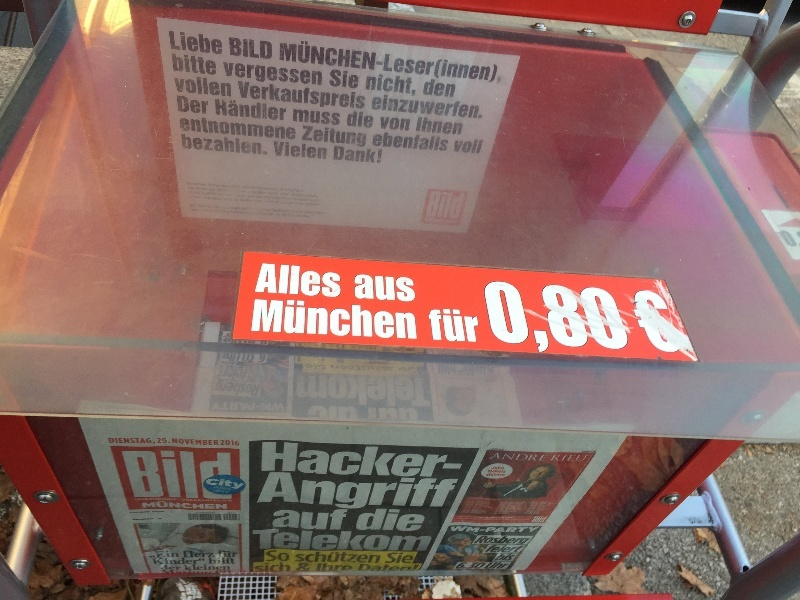text: (497, 282, 512, 354), (513, 282, 528, 354), (529, 282, 544, 354), (545, 282, 560, 354), (561, 282, 576, 354), (577, 282, 592, 354), (593, 282, 608, 354), (609, 282, 624, 354), (625, 282, 640, 354), (641, 282, 656, 354), (657, 282, 672, 354), (673, 282, 687, 354), (483, 282, 496, 354), (129, 450, 144, 500), (145, 450, 160, 500), (161, 450, 176, 500), (177, 450, 192, 500), (193, 450, 208, 500), (209, 450, 224, 500), (401, 298, 417, 340), (257, 298, 272, 340), (273, 298, 288, 340), (289, 298, 304, 340), (305, 298, 320, 340), (321, 298, 336, 340), (337, 298, 352, 340), (353, 298, 368, 340), (369, 298, 384, 340), (385, 298, 400, 340), (273, 472, 288, 513), (289, 472, 304, 513), (305, 472, 320, 513), (321, 472, 336, 513), (337, 472, 352, 513), (353, 472, 368, 513), (369, 472, 384, 513), (385, 472, 400, 513), (401, 472, 416, 513), (417, 472, 432, 513), (433, 472, 448, 513), (273, 442, 288, 481), (289, 442, 304, 481), (305, 442, 320, 481), (321, 442, 336, 481), (337, 442, 352, 481), (353, 442, 368, 481), (369, 442, 384, 481), (385, 442, 400, 481), (401, 442, 416, 481), (417, 442, 432, 481), (433, 442, 448, 481), (449, 442, 464, 481), (289, 39, 304, 76), (305, 39, 320, 76), (321, 39, 336, 76), (337, 39, 352, 76), (353, 39, 368, 76), (369, 39, 384, 76), (385, 39, 400, 76), (401, 39, 416, 76), (417, 39, 432, 76), (465, 309, 481, 343), (273, 263, 288, 298), (289, 263, 304, 298), (305, 263, 320, 298), (321, 263, 336, 298), (433, 309, 448, 343), (449, 309, 464, 343), (305, 375, 320, 408), (321, 375, 336, 408), (337, 375, 352, 408), (353, 375, 368, 408), (369, 375, 384, 408), (385, 375, 400, 408), (401, 375, 416, 408), (417, 375, 431, 408), (449, 472, 460, 513), (433, 191, 448, 221), (449, 191, 464, 221), (241, 81, 256, 110), (257, 81, 272, 110), (273, 81, 288, 110), (289, 81, 304, 110), (305, 81, 320, 110), (321, 81, 336, 110), (337, 81, 352, 110), (369, 274, 384, 302), (385, 274, 400, 302), (401, 274, 416, 302), (353, 81, 367, 110), (225, 450, 233, 500), (354, 274, 368, 302), (262, 442, 272, 481), (193, 115, 208, 141), (209, 115, 224, 141), (225, 115, 240, 141), (241, 115, 256, 141), (257, 115, 272, 141), (273, 115, 288, 141), (225, 62, 240, 88), (241, 62, 256, 88), (257, 62, 272, 88), (273, 62, 288, 88), (289, 62, 304, 88), (305, 62, 320, 88), (369, 507, 384, 532), (385, 507, 400, 532), (401, 507, 416, 532), (385, 94, 400, 119), (401, 94, 416, 119), (417, 94, 432, 119), (433, 94, 448, 119), (449, 94, 464, 119), (465, 94, 480, 119), (177, 31, 192, 56), (193, 31, 208, 56), (257, 528, 272, 552), (273, 528, 288, 552), (289, 528, 304, 552), (305, 528, 320, 552), (321, 528, 336, 552), (337, 528, 352, 552), (353, 528, 368, 552), (369, 528, 384, 552), (385, 528, 400, 552), (401, 528, 416, 552), (417, 528, 432, 552), (177, 74, 192, 98), (193, 74, 208, 98), (209, 74, 224, 98), (449, 59, 464, 83), (465, 59, 480, 83), (481, 59, 496, 83), (121, 450, 128, 500), (209, 31, 223, 56), (225, 98, 240, 121), (241, 98, 256, 121), (257, 98, 272, 121), (369, 74, 384, 97), (385, 74, 400, 97), (401, 74, 416, 97), (177, 53, 192, 76), (193, 53, 208, 76), (241, 37, 256, 60), (257, 37, 272, 60), (179, 115, 192, 141), (289, 509, 304, 531), (305, 509, 320, 531), (321, 509, 336, 531), (193, 134, 208, 156), (209, 134, 224, 156), (225, 134, 240, 156), (241, 134, 256, 156), (305, 126, 320, 148), (321, 126, 336, 148), (337, 126, 352, 148), (337, 69, 352, 91), (273, 98, 287, 121), (263, 263, 272, 298), (353, 126, 367, 148), (193, 96, 209, 115), (417, 507, 429, 532), (385, 132, 400, 152), (401, 132, 416, 152), (417, 132, 432, 152), (433, 132, 448, 152), (433, 78, 448, 98), (280, 39, 288, 76), (275, 509, 288, 531), (353, 111, 368, 130), (433, 117, 448, 136), (449, 117, 464, 136), (177, 96, 192, 115), (373, 94, 384, 119), (337, 146, 352, 164), (353, 146, 368, 164), (289, 142, 304, 160), (305, 142, 320, 160), (225, 379, 240, 397), (241, 379, 256, 397), (305, 357, 320, 375), (321, 357, 336, 375), (337, 357, 352, 375), (353, 357, 368, 375), (369, 357, 384, 375), (385, 357, 400, 375), (401, 357, 416, 375), (437, 59, 448, 83), (305, 109, 320, 126), (321, 109, 336, 126), (321, 406, 336, 423), (337, 406, 352, 423), (353, 406, 368, 423), (369, 406, 384, 423), (385, 406, 400, 423), (401, 406, 416, 423), (229, 37, 240, 60), (369, 146, 383, 164), (274, 142, 288, 160), (419, 117, 432, 136), (337, 509, 348, 531), (181, 134, 192, 156), (465, 138, 480, 154), (297, 375, 304, 408), (385, 117, 400, 132), (257, 134, 267, 156), (215, 98, 224, 121), (273, 550, 288, 563), (209, 477, 224, 490), (225, 477, 240, 490), (309, 406, 320, 423), (209, 53, 217, 76), (289, 115, 296, 141), (375, 132, 384, 152), (225, 401, 240, 413), (241, 401, 256, 413), (257, 401, 272, 413), (225, 351, 240, 363), (169, 31, 176, 56), (294, 109, 304, 126), (401, 552, 415, 564), (225, 74, 232, 98), (241, 351, 255, 363), (305, 552, 320, 563), (321, 552, 336, 563), (337, 552, 352, 563), (353, 552, 368, 563), (295, 357, 304, 375), (337, 563, 353, 573), (449, 78, 457, 98), (465, 442, 469, 481), (257, 563, 272, 573), (273, 563, 288, 573), (321, 563, 336, 573), (362, 507, 368, 532), (497, 535, 512, 545), (513, 535, 528, 545), (401, 117, 411, 132), (388, 552, 400, 564), (455, 138, 464, 154), (273, 401, 285, 413), (369, 552, 382, 563), (337, 263, 341, 298), (428, 309, 432, 343), (161, 564, 176, 573), (161, 556, 176, 565), (177, 556, 192, 565), (161, 550, 176, 559), (497, 545, 512, 554), (513, 453, 528, 462), (529, 453, 544, 462), (353, 69, 359, 91), (260, 352, 272, 363), (483, 535, 496, 545), (498, 453, 512, 462), (321, 142, 328, 160), (193, 564, 208, 572), (209, 564, 224, 572), (193, 551, 208, 559), (369, 564, 384, 572), (385, 564, 400, 572), (401, 564, 416, 572), (145, 502, 160, 510), (161, 502, 176, 510), (177, 502, 192, 510), (193, 502, 208, 510), (209, 502, 224, 510), (177, 438, 192, 446), (193, 438, 208, 446), (561, 454, 576, 462), (426, 78, 432, 98), (193, 556, 206, 565), (513, 545, 526, 554), (369, 111, 375, 130), (433, 39, 436, 76), (331, 69, 336, 91), (215, 401, 224, 413), (209, 558, 224, 565), (465, 563, 480, 570), (113, 438, 128, 445), (129, 438, 144, 445), (225, 440, 240, 447), (225, 550, 238, 558), (149, 556, 160, 565), (497, 563, 511, 570), (172, 74, 176, 98), (172, 53, 176, 76), (465, 527, 480, 533), (481, 527, 496, 533), (497, 527, 512, 533), (513, 527, 528, 533), (219, 379, 224, 397), (257, 379, 262, 397), (577, 454, 588, 462), (296, 552, 304, 563), (225, 558, 237, 565), (270, 472, 272, 513), (182, 551, 192, 559), (296, 563, 304, 573), (502, 553, 512, 561), (209, 438, 219, 446), (214, 486, 224, 494), (266, 550, 272, 563), (241, 477, 247, 490), (451, 527, 464, 533), (145, 438, 156, 445), (348, 111, 352, 130), (193, 498, 208, 503), (209, 498, 224, 503), (481, 94, 484, 119), (253, 528, 256, 552), (529, 527, 541, 533), (337, 109, 341, 126), (161, 438, 172, 444), (305, 563, 311, 573), (238, 81, 240, 110), (185, 564, 192, 572), (361, 564, 368, 572), (536, 516, 544, 523), (181, 498, 192, 503), (154, 550, 160, 559), (481, 563, 488, 570), (225, 564, 231, 572), (209, 551, 215, 559), (161, 498, 177, 501), (481, 138, 484, 154), (497, 59, 499, 83), (218, 550, 224, 558), (225, 486, 231, 494), (145, 498, 160, 501), (381, 117, 384, 132), (255, 298, 256, 340), (225, 498, 233, 503), (555, 454, 560, 462), (177, 564, 181, 573), (545, 453, 549, 462), (497, 470, 506, 474), (417, 357, 419, 375), (491, 563, 496, 570), (417, 406, 419, 423), (513, 553, 517, 561), (172, 438, 176, 446), (529, 535, 532, 545), (431, 191, 432, 221), (465, 191, 466, 221), (470, 498, 480, 501), (481, 498, 491, 501), (108, 438, 112, 445), (489, 470, 496, 474), (177, 550, 180, 559), (135, 498, 144, 501), (223, 62, 224, 88), (321, 62, 322, 88), (417, 564, 420, 572), (433, 528, 434, 552), (141, 502, 144, 510), (156, 438, 160, 444), (497, 467, 505, 470), (367, 74, 368, 97), (417, 74, 418, 97), (303, 126, 304, 148), (545, 516, 548, 523), (221, 440, 224, 447), (289, 563, 291, 573), (318, 563, 320, 573), (449, 132, 450, 152), (494, 545, 496, 554), (335, 146, 336, 164), (487, 474, 496, 476), (225, 502, 227, 510), (497, 474, 505, 476), (462, 563, 464, 570), (289, 550, 290, 563), (207, 477, 208, 490), (492, 467, 496, 470), (255, 563, 256, 573)
